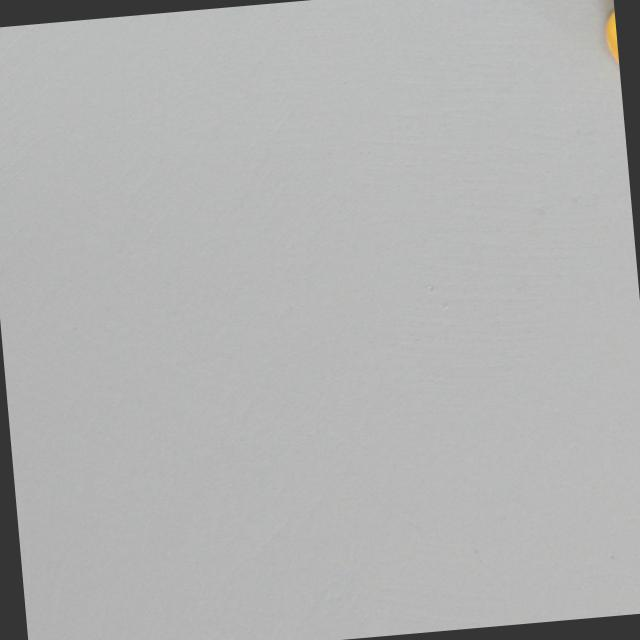no_desgerminado: (595, 0, 621, 90)
